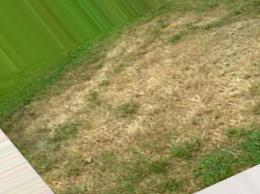patch: (147, 49, 245, 119), (117, 84, 137, 124), (94, 127, 124, 147), (49, 104, 78, 117), (69, 86, 87, 99), (79, 140, 96, 153), (128, 71, 145, 79)
